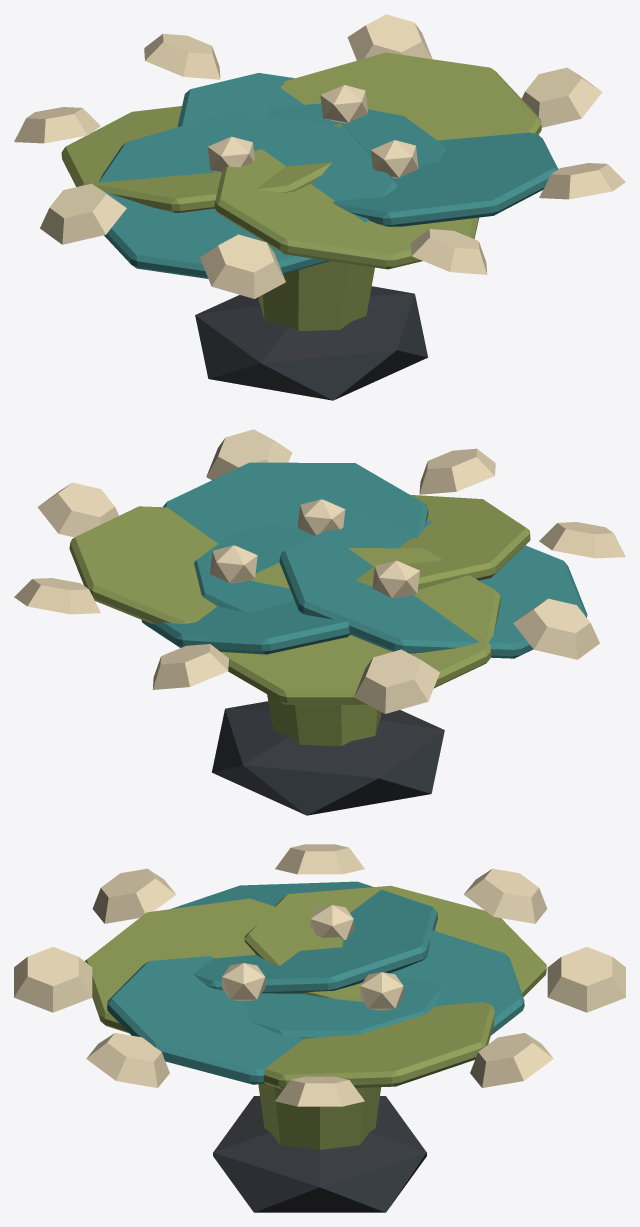
File: prop_coral_table_a.glb
3 views of the same model, one above another, from view 1: azimuth 30°, elevation 25°; view 2: azimuth 150°, elevation 25°; view 3: azimuth 270°, elevation 25° (orthographic).
Visible parts, largest first — view 1: table_plate_0, table_plate_1, table_knob_0, table_rock_foot; view 2: table_plate_1, table_plate_0, table_knob_0, table_rock_foot; view 3: table_plate_1, table_plate_0, table_knob_0, table_rock_foot.
Part boxes in pixels (bbox=[...]): table_plate_0: bbox=[61, 52, 541, 330]; table_plate_1: bbox=[99, 73, 557, 278]; table_knob_0: bbox=[14, 14, 625, 298]; table_rock_foot: bbox=[195, 286, 427, 400]; table_plate_1: bbox=[141, 462, 587, 658]; table_plate_0: bbox=[69, 495, 530, 746]; table_knob_0: bbox=[14, 429, 625, 713]; table_rock_foot: bbox=[212, 701, 444, 815]; table_plate_1: bbox=[107, 881, 524, 1084]; table_plate_0: bbox=[85, 885, 546, 1149]; table_knob_0: bbox=[14, 844, 625, 1106]; table_rock_foot: bbox=[213, 1096, 426, 1212].
Bounding box in the file's own units: 1.59 × 0.71 × 1.56.
